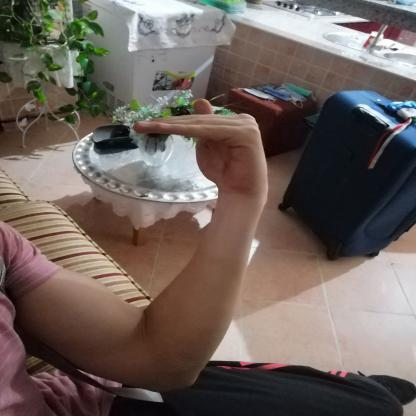KHAA: (117, 92, 292, 207)
